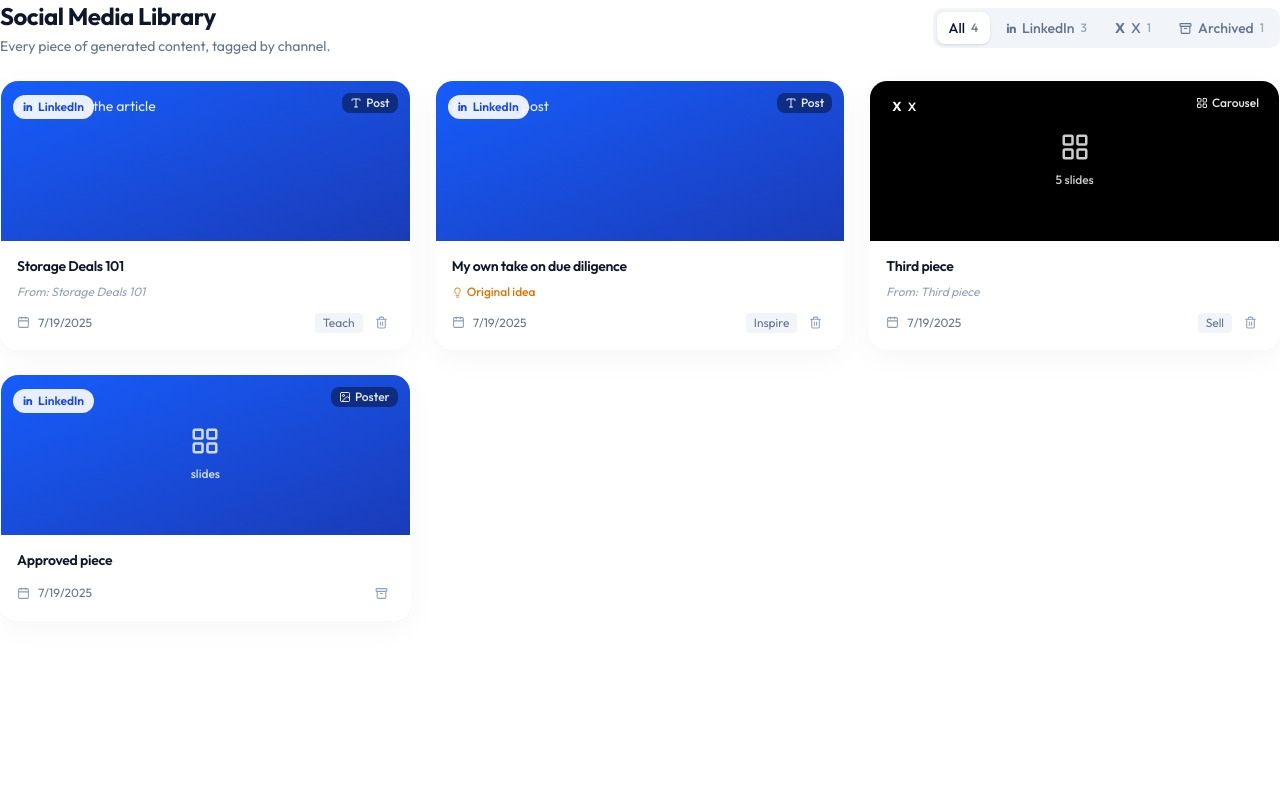
Test: SocialLibrary › cancelling the dialog deletes nothing
The image size is (1280, 800).
Expected: the heading "My own take on due diligence" is shown, x1=452 y1=257 x2=627 y2=275
Click the button named "Delete" next to "inspire" at (816,323), box x1=803 y1=312 x2=828 y2=333
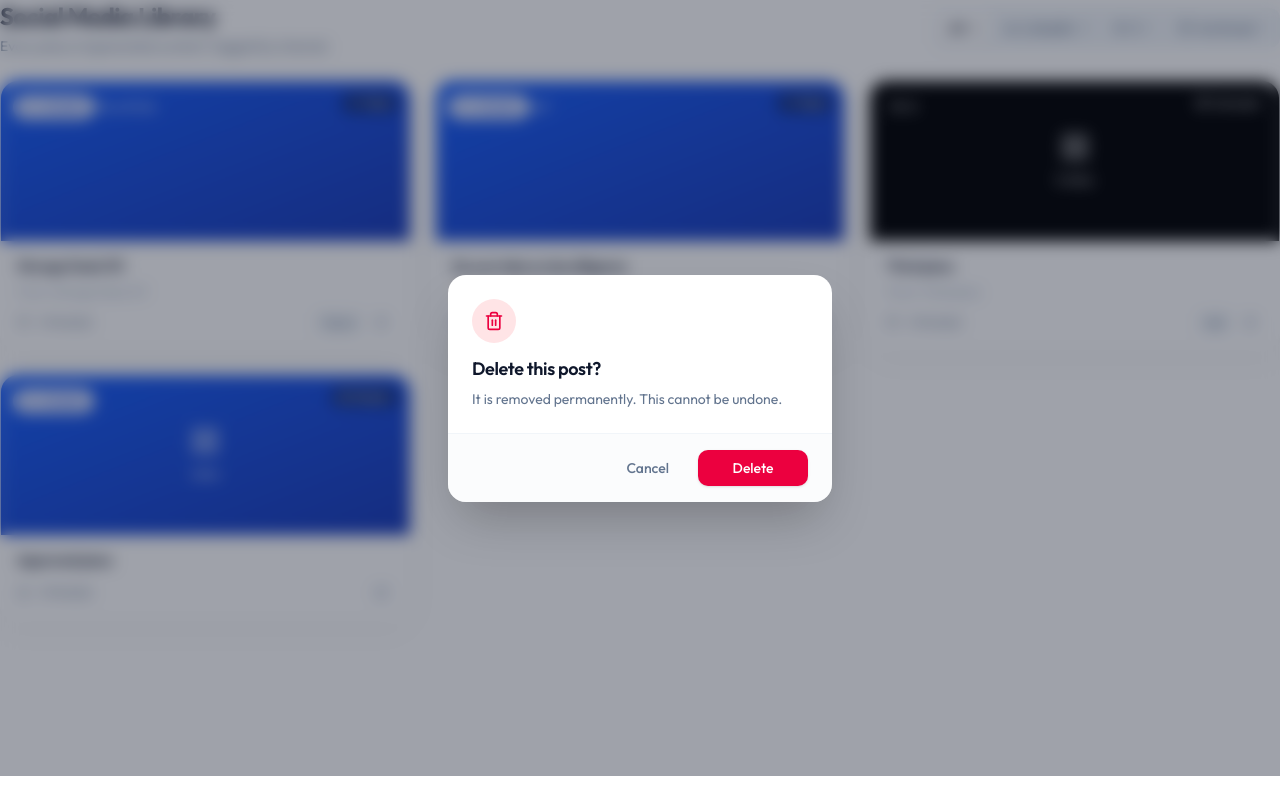
Click the button "Cancel" at (648,468), box x1=609 y1=450 x2=686 y2=486
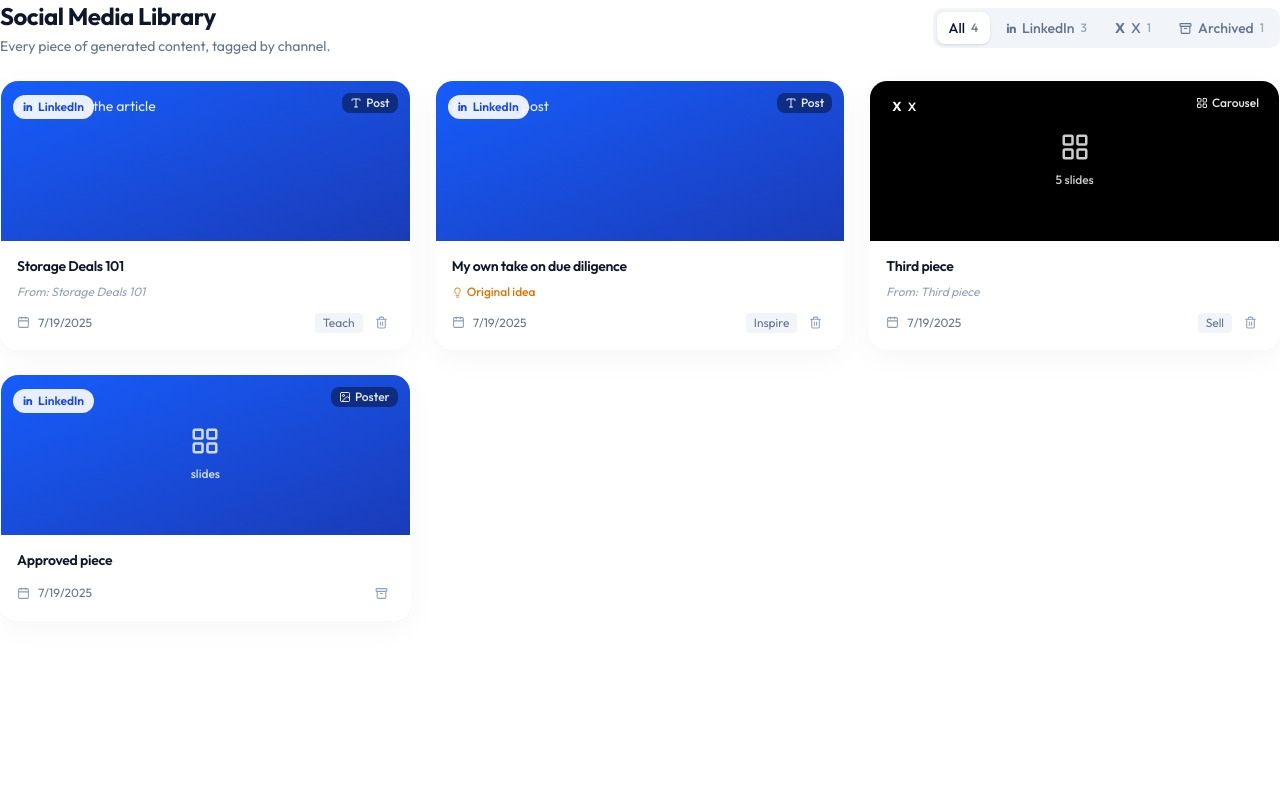
Expected: the heading "My own take on due diligence" is shown, x1=452 y1=257 x2=627 y2=275
Expected: the dialog is gone
